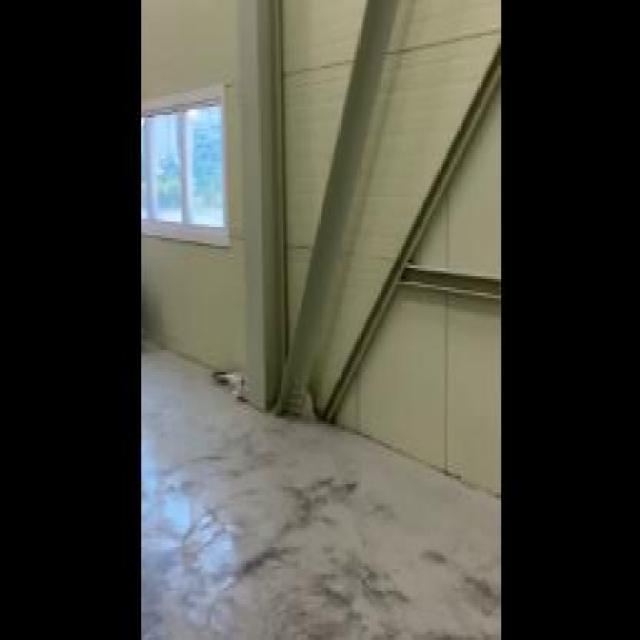white_roll: (143, 88, 246, 255)
